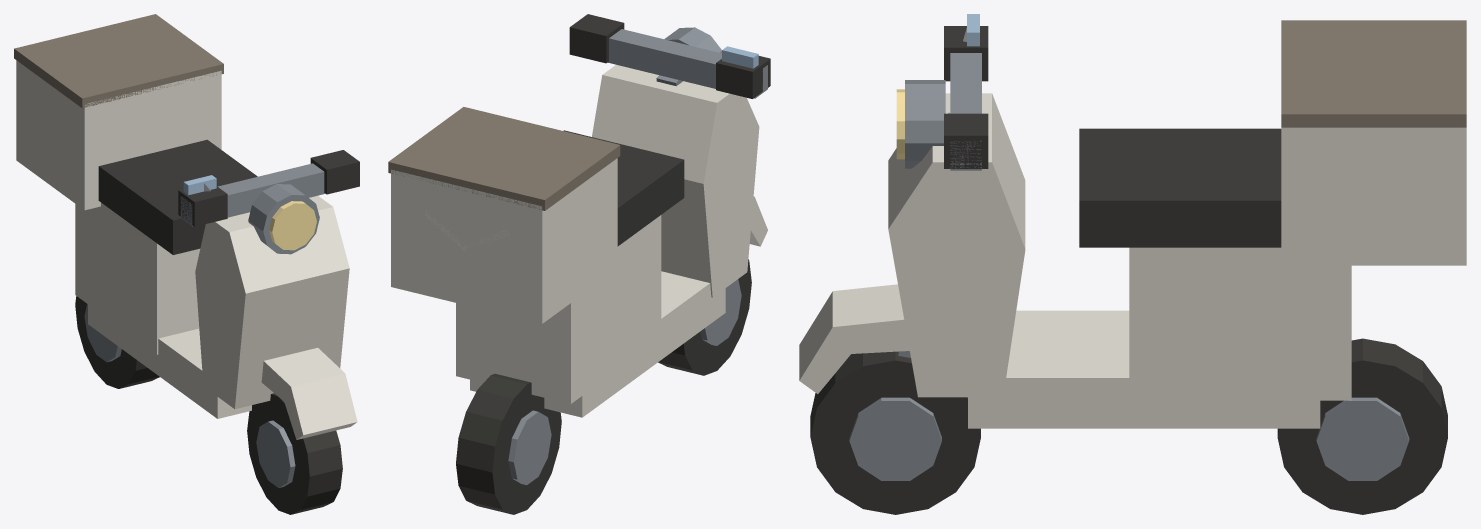
Rendered from scooter.glb.
The picture shows the model from 3 angles, left to right: view 1: azimuth 30°, elevation 25°; view 2: azimuth 150°, elevation 25°; view 3: azimuth 270°, elevation 25°; orthographic projection. The views are drawn at different scales.
Visible parts, largest first — view 1: scooter_structure; view 2: scooter_structure; view 3: scooter_structure.
Boxes of the visible parts, box(x1,y1,x2,y2) form: scooter_structure: box(14, 14, 359, 514); scooter_structure: box(388, 14, 770, 514); scooter_structure: box(799, 14, 1466, 514).
Size of the model in its own units: 0.7 by 1.3 by 1.8.
